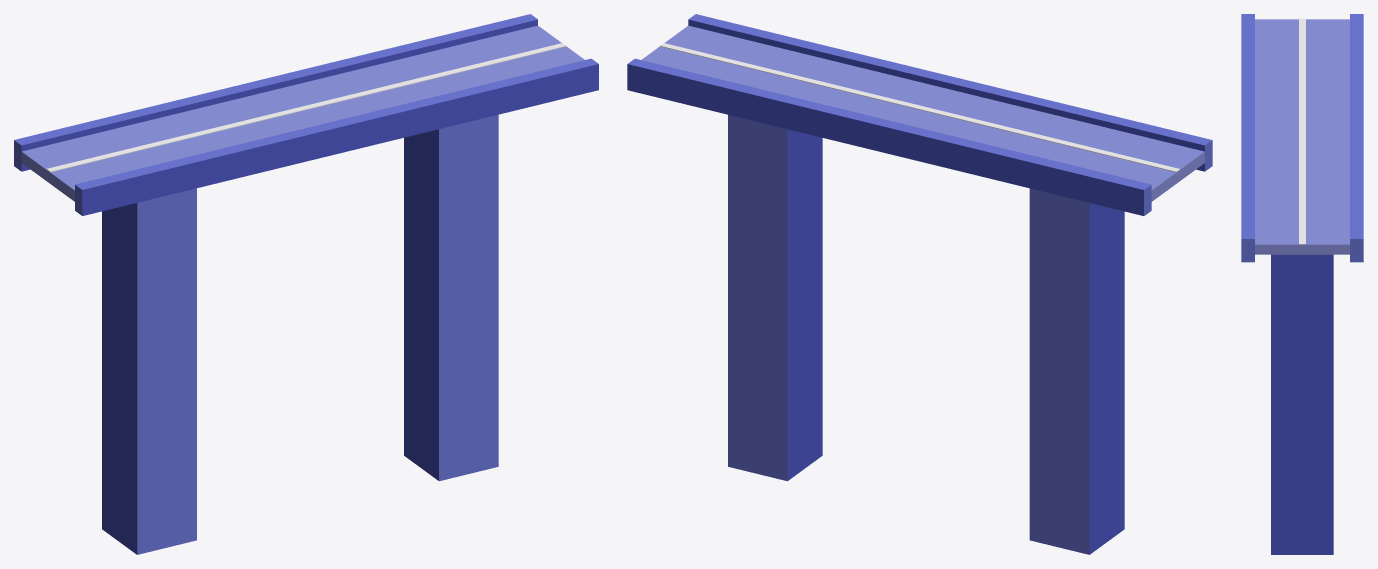
The model's file is cau.fbx.
3 renders of one model, left to right at view 1: azimuth 30°, elevation 25°; view 2: azimuth 150°, elevation 25°; view 3: azimuth 270°, elevation 25°, orthographic. The views are drawn at different scales.
Parts seen in each view (by area): view 1: cau; view 2: cau; view 3: cau.
Boxes of the visible parts, bbox=[...] form: cau: bbox=[14, 14, 598, 554]; cau: bbox=[627, 14, 1212, 554]; cau: bbox=[1241, 14, 1363, 554].
Size of the model in its own units: 1338 by 976 by 307.
